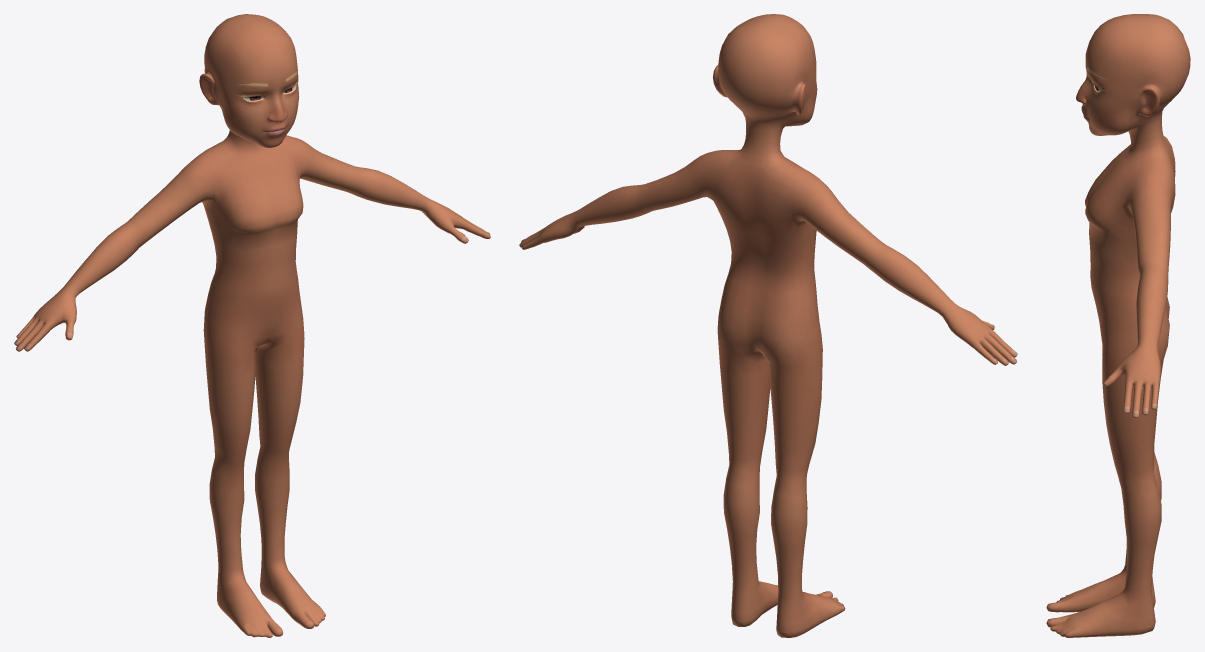
Rendered from frame_0026.glb.
3 renders of one model, left to right at view 1: azimuth 30°, elevation 25°; view 2: azimuth 150°, elevation 25°; view 3: azimuth 270°, elevation 25°, orthographic. The views are drawn at different scales.
Visible parts, largest first — view 1: frame_0026_head_geo; view 2: frame_0026_head_geo; view 3: frame_0026_head_geo.
Boxes of the visible parts, bbox=[...] form: frame_0026_head_geo: bbox=[14, 14, 490, 637]; frame_0026_head_geo: bbox=[519, 14, 1017, 637]; frame_0026_head_geo: bbox=[1046, 14, 1190, 637].
Bounding box in the file's own units: 1.28 × 1.5 × 0.3253.
Materials: 3 (3 with a texture image).
